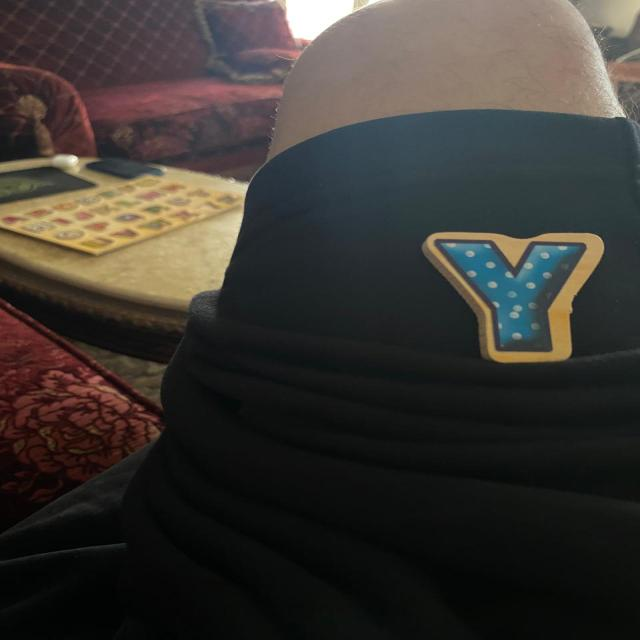Y: (422, 231, 603, 363)
